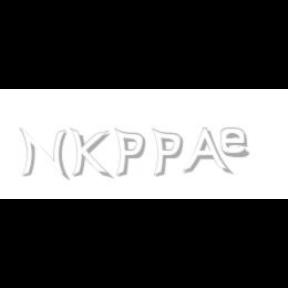A: (182, 128, 230, 176)
K: (70, 128, 110, 180)
N: (18, 128, 68, 180)
P: (114, 128, 146, 178), (151, 128, 183, 178)
e: (220, 128, 253, 158)
